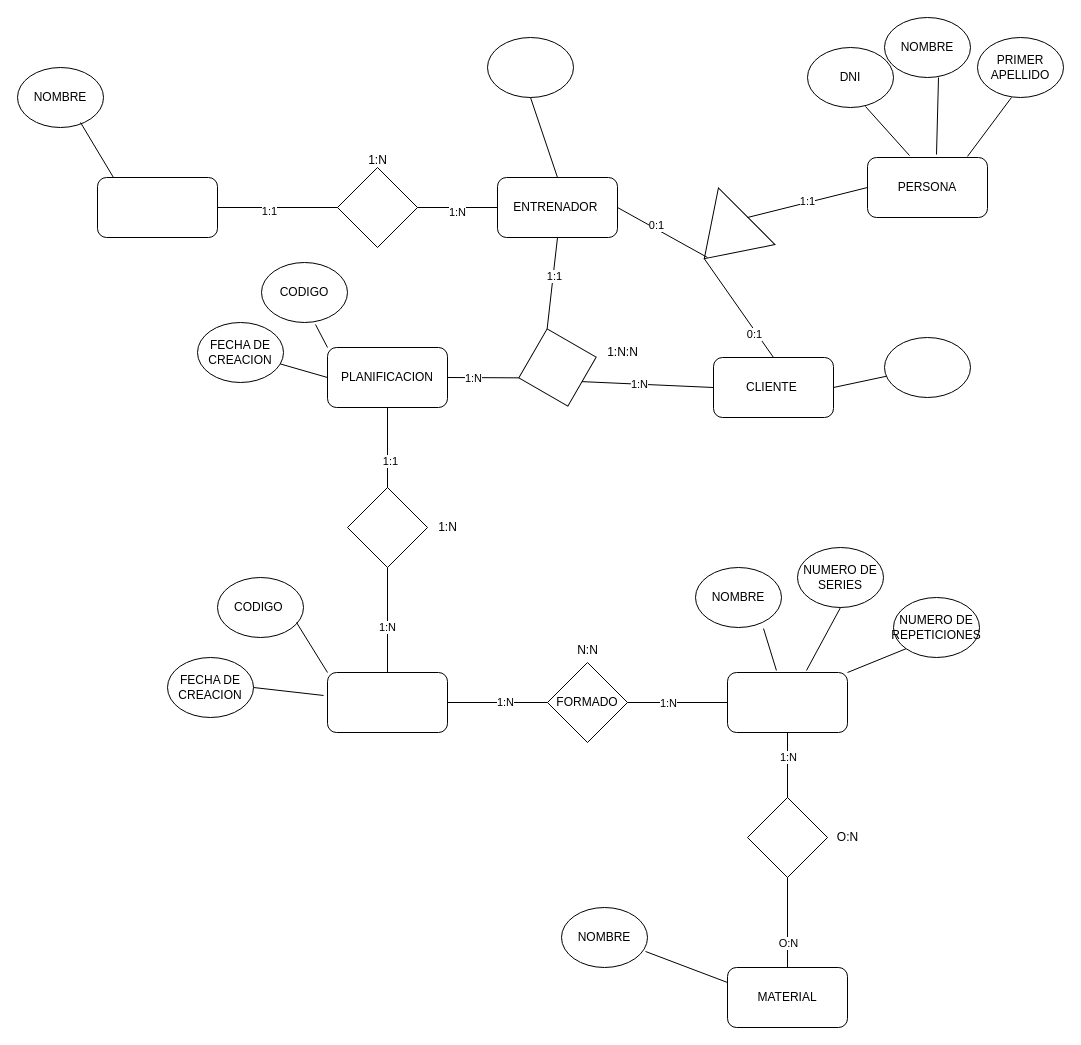
This 1081x1045 diagram has some shape labels left out. The shapes that lost their labels are listed below. From the top down, each one's box as (x1, y1, x2, y2) in pixels, then its label:
(486, 36, 574, 98): SALARIO
(96, 176, 218, 238): GYM
(336, 166, 418, 248): TIENE
(507, 317, 607, 417): PLANIFICA
(884, 336, 970, 398): FECHA DE ALTA
(346, 486, 428, 568): FORMADA
(326, 672, 448, 732): ENTRENAMIENTO
(726, 672, 848, 732): EJERCICIO
(746, 796, 828, 878): UTILIZA
